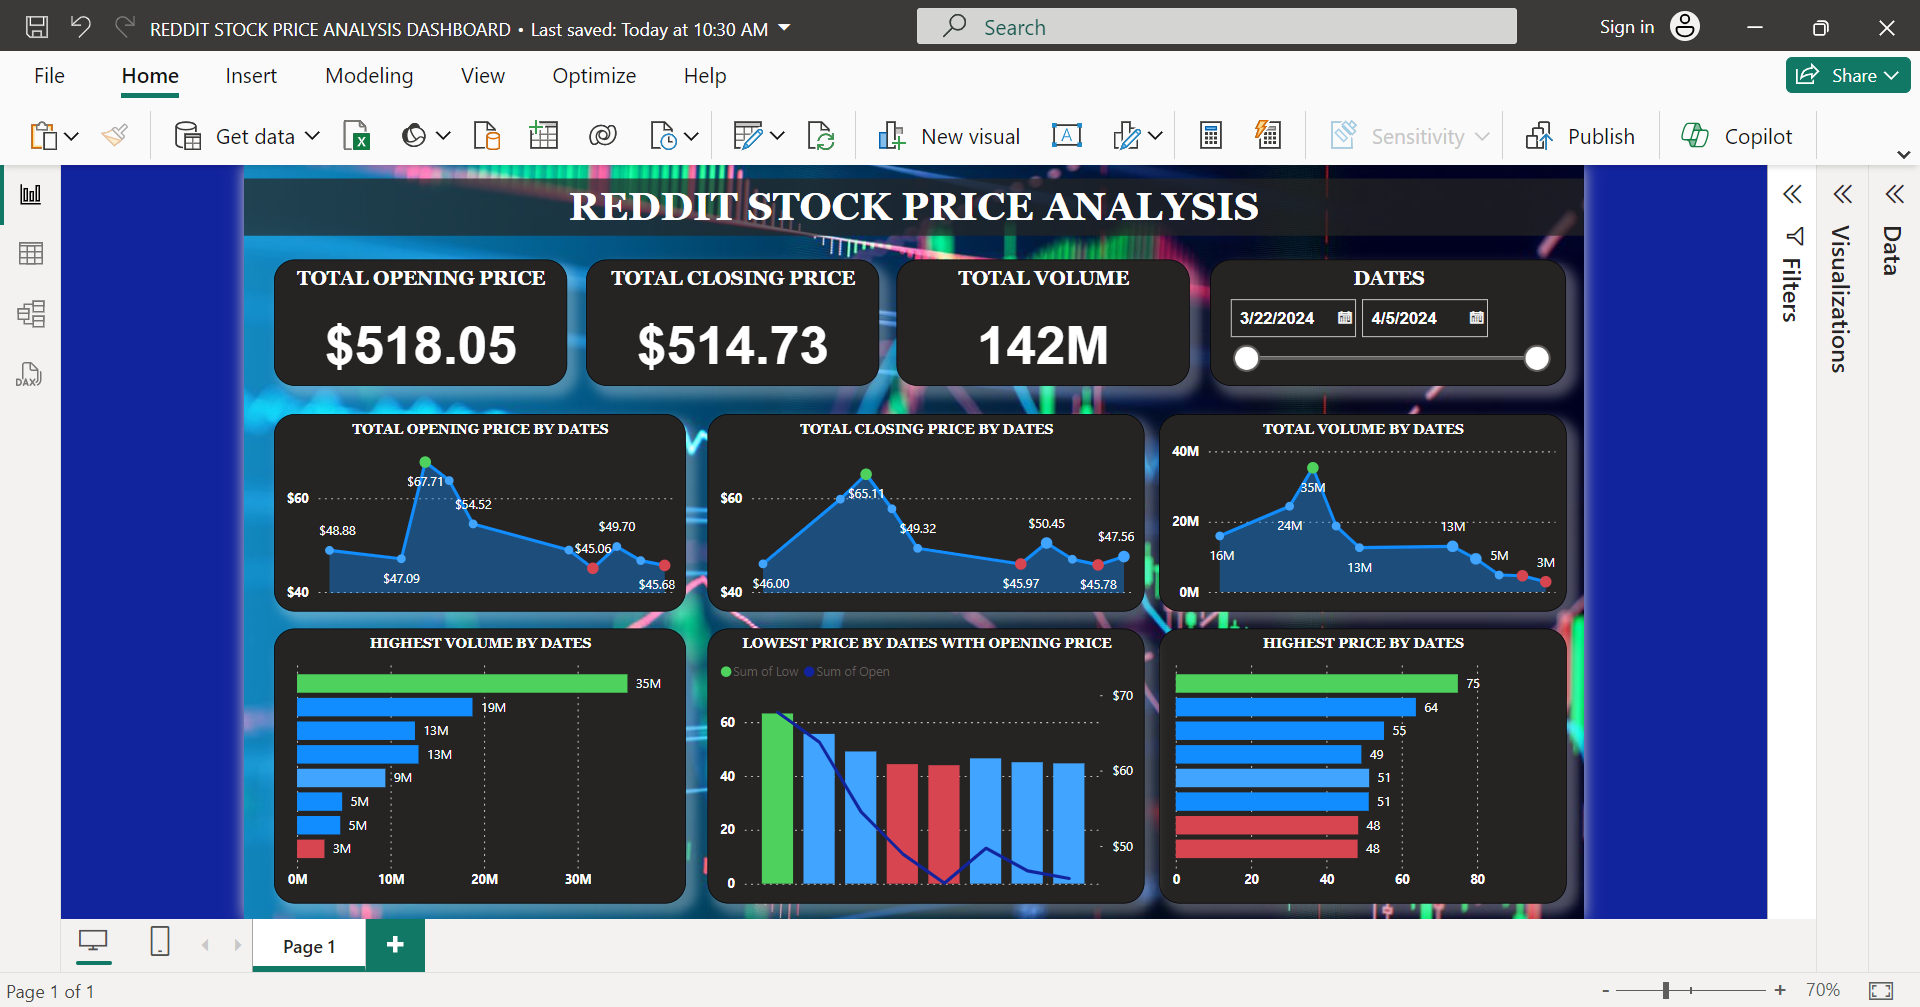

What the dashboard file says about the page in this screenshot:
{"tool":"powerbi","page":{"name":"Page 1","canvas":[1280,720],"ordinal":0},"visuals":[{"type":"textbox","box":[0,13.2,1279.4,54.8],"z":0},{"type":"cardVisual","title":"TOTAL OPENING PRICE","fields":{"Data":["Sum(RDDT.Open)"]},"box":[28.3,90.7,279.7,120.9],"z":1},{"type":"cardVisual","title":"TOTAL CLOSING PRICE","fields":{"Data":["Sum(RDDT.Close)"]},"box":[326.9,90.7,279.7,120.9],"z":2},{"type":"cardVisual","title":"TOTAL VOLUME","fields":{"Data":["Sum(RDDT.Volume)"]},"box":[623.6,90.7,279.7,120.9],"z":3},{"type":"slicer","title":"DATES","fields":{"Values":["RDDT.Date"]},"box":[922.2,90.7,340.2,120.9],"z":4},{"type":"areaChart","title":"TOTAL OPENING PRICE BY DATES","fields":{"Category":["RDDT.Date.Variation.Date Hierarchy.Year","RDDT.Date.Variation.Date Hierarchy.Quarter","RDDT.Date.Variation.Date Hierarchy.Month","RDDT.Date.Variation.Date Hierarchy.Day"],"Y":["Sum(RDDT.Open)"]},"box":[28.3,238.1,393.1,189],"z":5},{"type":"areaChart","title":"TOTAL CLOSING PRICE BY DATES","fields":{"Category":["RDDT.Date.Variation.Date Hierarchy.Year","RDDT.Date.Variation.Date Hierarchy.Quarter","RDDT.Date.Variation.Date Hierarchy.Month","RDDT.Date.Variation.Date Hierarchy.Day"],"Y":["Sum(RDDT.Close)"]},"box":[442.2,238.1,417.6,189],"z":6},{"type":"areaChart","title":"TOTAL VOLUME BY DATES","fields":{"Category":["RDDT.Date.Variation.Date Hierarchy.Year","RDDT.Date.Variation.Date Hierarchy.Quarter","RDDT.Date.Variation.Date Hierarchy.Month","RDDT.Date.Variation.Date Hierarchy.Day"],"Y":["Sum(RDDT.Volume)"]},"box":[873.1,238.1,389.3,189],"z":7},{"type":"clusteredBarChart","title":" HIGHEST PRICE BY DATES","fields":{"Category":["RDDT.Date.Variation.Date Hierarchy.Year","RDDT.Date.Variation.Date Hierarchy.Quarter","RDDT.Date.Variation.Date Hierarchy.Month","RDDT.Date.Variation.Date Hierarchy.Day"],"Y":["Sum(RDDT.High)"]},"box":[873.1,442.2,389.3,262.7],"z":8},{"type":"lineClusteredColumnComboChart","title":" LOWEST PRICE BY DATES WITH OPENING PRICE","fields":{"Category":["RDDT.Date.Variation.Date Hierarchy.Year","RDDT.Date.Variation.Date Hierarchy.Quarter","RDDT.Date.Variation.Date Hierarchy.Month","RDDT.Date.Variation.Date Hierarchy.Day"],"Y":["Sum(RDDT.Low)"],"Y2":["Sum(RDDT.Open)"]},"box":[442.2,442.2,417.6,262.7],"z":9},{"type":"clusteredBarChart","title":"HIGHEST VOLUME BY DATES","fields":{"Category":["RDDT.Date.Variation.Date Hierarchy.Year","RDDT.Date.Variation.Date Hierarchy.Quarter","RDDT.Date.Variation.Date Hierarchy.Month","RDDT.Date.Variation.Date Hierarchy.Day"],"Y":["Sum(RDDT.Volume)"]},"box":[28.3,442.2,393.1,262.7],"z":10}]}

Visuals, with their boxes in screenshot pixels (x1, y1, x2, y2):
textbox: left=20, top=48, right=1781, bottom=124
"TOTAL OPENING PRICE" cardVisual: left=59, top=155, right=444, bottom=321
"TOTAL CLOSING PRICE" cardVisual: left=470, top=155, right=855, bottom=321
"TOTAL VOLUME" cardVisual: left=878, top=155, right=1263, bottom=321
"DATES" slicer: left=1289, top=155, right=1758, bottom=321
"TOTAL OPENING PRICE BY DATES" areaChart: left=59, top=358, right=600, bottom=618
"TOTAL CLOSING PRICE BY DATES" areaChart: left=629, top=358, right=1204, bottom=618
"TOTAL VOLUME BY DATES" areaChart: left=1222, top=358, right=1758, bottom=618
" HIGHEST PRICE BY DATES" clusteredBarChart: left=1222, top=639, right=1758, bottom=1000
" LOWEST PRICE BY DATES WITH OPENING PRICE" lineClusteredColumnComboChart: left=629, top=639, right=1204, bottom=1000
"HIGHEST VOLUME BY DATES" clusteredBarChart: left=59, top=639, right=600, bottom=1000
